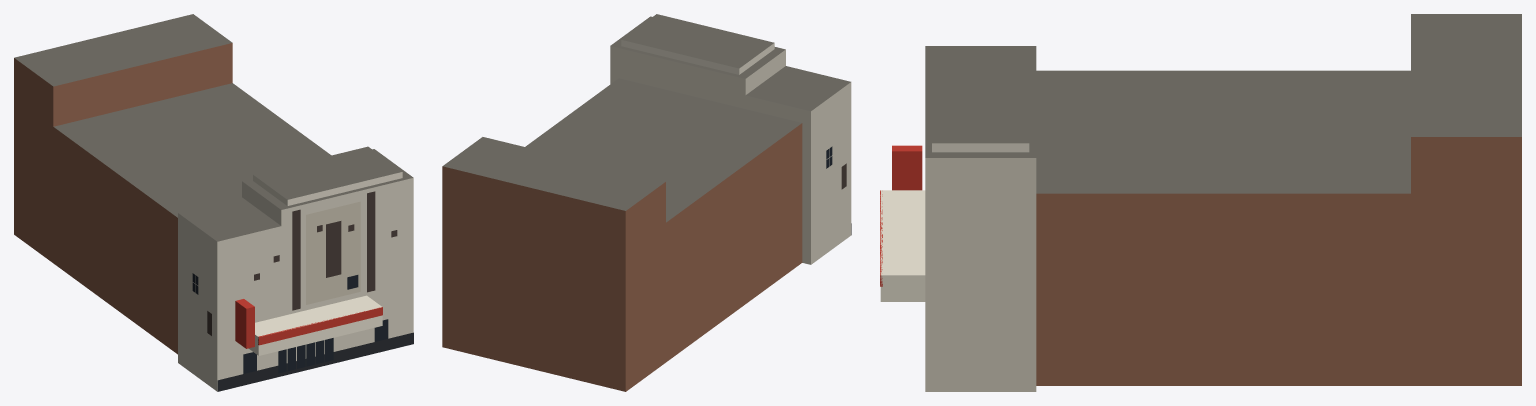
Rendered from arkansas-theatre-1961.glb.
3 views of the same model, side by side, from view 1: azimuth 30°, elevation 25°; view 2: azimuth 150°, elevation 25°; view 3: azimuth 270°, elevation 25° (orthographic). The views are drawn at different scales.
Parts seen in each view (by area): view 1: arkansas_roof, arkansas_brick, arkansas_stucco, arkansas_stucco2, arkansas_marquee, arkansas_dark, arkansas_glass, arkansas_neon, arkansas_tile, arkansas_trim; view 2: arkansas_brick, arkansas_roof, arkansas_stucco, arkansas_trim; view 3: arkansas_brick, arkansas_roof, arkansas_stucco, arkansas_marquee, arkansas_neon, arkansas_trim.
Boxes of the visible parts, box(x1,y1,x2,y2) form: arkansas_roof: box(14, 14, 413, 241); arkansas_brick: box(14, 43, 232, 354); arkansas_stucco: box(178, 178, 413, 391); arkansas_stucco2: box(306, 201, 360, 304); arkansas_marquee: box(248, 295, 382, 355); arkansas_dark: box(207, 191, 397, 335); arkansas_glass: box(192, 273, 388, 373); arkansas_neon: box(235, 299, 382, 348); arkansas_tile: box(217, 332, 413, 391); arkansas_trim: box(253, 172, 402, 205); arkansas_brick: box(442, 123, 802, 391); arkansas_roof: box(443, 14, 850, 222); arkansas_stucco: box(610, 46, 851, 264); arkansas_trim: box(621, 40, 774, 74); arkansas_brick: box(1036, 137, 1521, 385); arkansas_roof: box(925, 14, 1521, 193); arkansas_stucco: box(925, 158, 1036, 391); arkansas_marquee: box(880, 190, 925, 301); arkansas_neon: box(880, 145, 922, 286); arkansas_trim: box(932, 143, 1029, 152).
Bounding box in the file's own units: 23.04 × 19.8 × 46.25.
